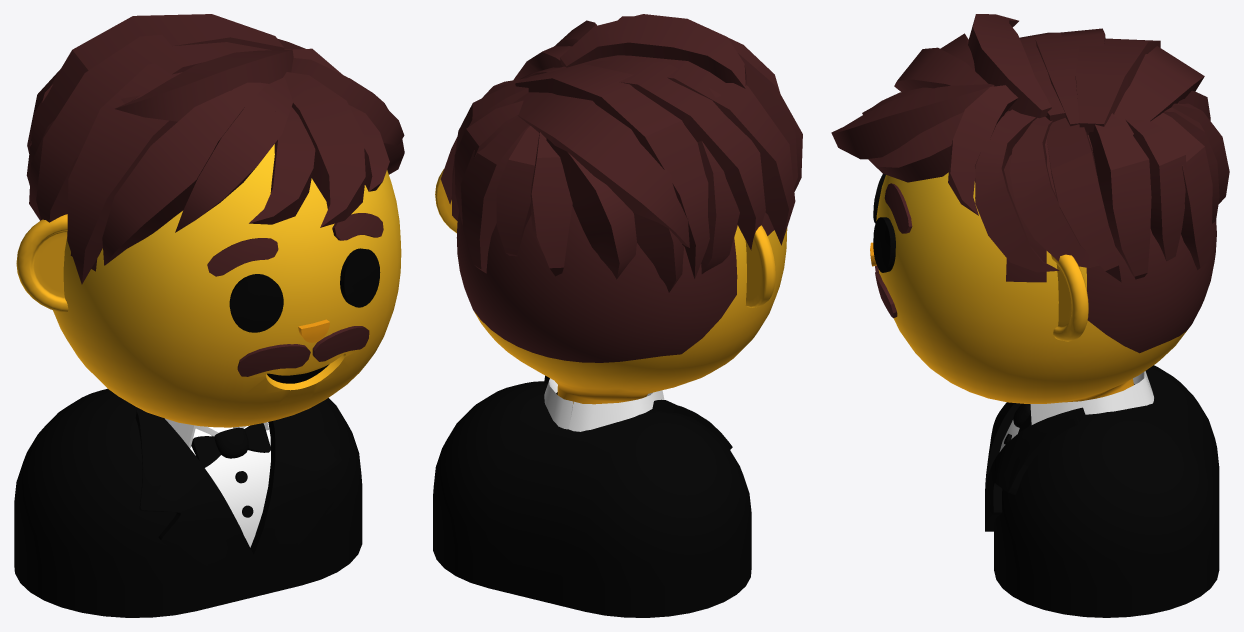
Rendered from man_in_tuxedo.glb.
The picture shows the model from 3 angles, left to right: view 1: azimuth 30°, elevation 25°; view 2: azimuth 150°, elevation 25°; view 3: azimuth 270°, elevation 25°; orthographic projection. The views are drawn at different scales.
Visible parts, largest first — view 1: Cube.2139, Roundcube.172, Sphere.143, Circle.868, Circle.865, Cylinder.140, Circle.871, Circle.867, Circle.869, Cube.2147, Plane.087; view 2: Cube.2139, Sphere.143, Roundcube.172, Plane.087, Cylinder.140, Circle.868; view 3: Cube.2139, Roundcube.172, Sphere.143, Circle.868, Cylinder.140, Plane.087, Circle.865, Circle.867.
Boxes of the visible parts, x1,y1,x2,y2 form: Cube.2139: [26, 14, 404, 284]; Roundcube.172: [53, 144, 401, 427]; Sphere.143: [14, 388, 362, 617]; Circle.868: [135, 408, 341, 581]; Circle.865: [229, 248, 380, 332]; Cylinder.140: [16, 214, 68, 312]; Circle.871: [237, 326, 369, 376]; Circle.867: [207, 213, 383, 276]; Circle.869: [191, 423, 270, 467]; Cube.2147: [214, 427, 248, 458]; Plane.087: [165, 418, 268, 448]; Cube.2139: [440, 14, 802, 292]; Sphere.143: [433, 381, 751, 617]; Roundcube.172: [456, 206, 787, 404]; Plane.087: [544, 378, 664, 431]; Cylinder.140: [435, 169, 775, 307]; Circle.868: [544, 375, 732, 449]; Cube.2139: [831, 14, 1229, 282]; Roundcube.172: [876, 110, 1216, 403]; Sphere.143: [994, 365, 1219, 617]; Circle.868: [985, 402, 1085, 531]; Cylinder.140: [1051, 254, 1088, 341]; Plane.087: [1030, 371, 1153, 424]; Circle.865: [873, 174, 895, 272]; Circle.867: [884, 183, 912, 233].
Bounding box in the file's own units: 1.76 × 2.48 × 1.77.
2 materials, 2 textured.
